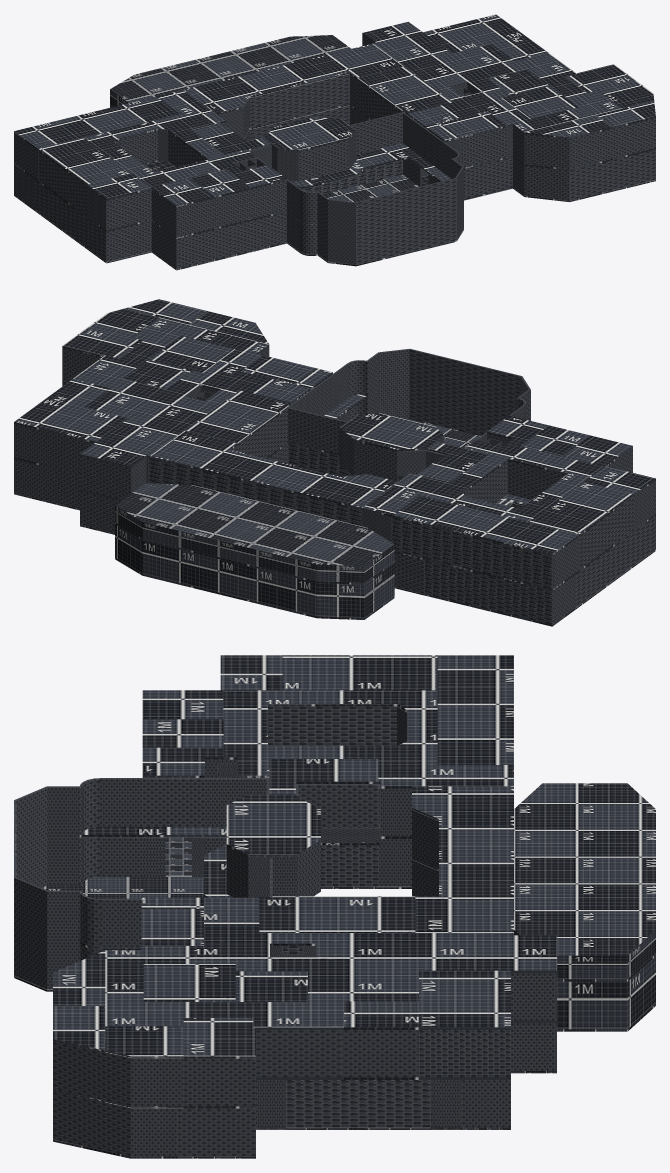
The model's file is block out.fbx.
The picture shows the model from 3 angles, top to bottom: view 1: azimuth 30°, elevation 25°; view 2: azimuth 150°, elevation 25°; view 3: azimuth 270°, elevation 25°; orthographic projection. The views are drawn at different scales.
Parts seen in each view (by area): view 1: sol_aile_droite_couloir, serre_1st_floor, sol_aile_gauche_couloir, sol_salon_central, sol_aile_gauche_dortoir, Cube__154_, Cube__34_, Cube__233_, Cube__41_, sol_aile_droite_dortoir, sol_aile_gauche_douches, sol_aile_gauche_bureau_directeur (+53 smaller); view 2: serre_1st_floor, sol_aile_droite_couloir, serre_rdc, sol_aile_gauche_couloir, sol_salon_central, Cube__122__1, sol_aile_gauche_dortoir, Cube, Cube__154_, Cube__236_, Cube__34_, sol_aile_droite_dortoir (+47 smaller); view 3: sol_aile_droite_couloir, serre_1st_floor, sol_aile_gauche_couloir, sol_salon_central, sol_aile_gauche_dortoir, Cube__47_, sol_aile_droite_dortoir, sol_aile_gauche_douches, sol_aile_droite_douches, sol_aile_gauche_bureau_directeur, Cube__237_, serre_rdc (+59 smaller).
Boxes of the visible parts, bbox=[...] form: sol_aile_droite_couloir: bbox=[362, 21, 622, 133]; serre_1st_floor: bbox=[110, 35, 351, 106]; sol_aile_gauche_couloir: bbox=[83, 90, 256, 186]; sol_salon_central: bbox=[184, 43, 403, 114]; sol_aile_gauche_dortoir: bbox=[14, 96, 179, 149]; Cube__154_: bbox=[356, 178, 456, 234]; Cube__34_: bbox=[356, 210, 456, 264]; Cube__233_: bbox=[249, 74, 349, 128]; Cube__41_: bbox=[569, 149, 655, 200]; sol_aile_droite_dortoir: bbox=[357, 66, 452, 114]; sol_aile_gauche_douches: bbox=[38, 138, 131, 185]; sol_aile_gauche_bureau_directeur: bbox=[263, 117, 356, 151]; serre_1st_floor: bbox=[115, 483, 394, 582]; sol_aile_droite_couloir: bbox=[73, 317, 310, 467]; serre_rdc: bbox=[115, 524, 394, 618]; sol_aile_gauche_couloir: bbox=[362, 440, 603, 521]; sol_salon_central: bbox=[150, 430, 397, 509]; Cube__122__1: bbox=[391, 517, 552, 589]; sol_aile_gauche_dortoir: bbox=[393, 495, 579, 555]; Cube: bbox=[424, 560, 553, 624]; Cube__154_: bbox=[409, 349, 521, 410]; Cube__236_: bbox=[148, 457, 362, 526]; Cube__34_: bbox=[409, 385, 515, 435]; sol_aile_droite_dortoir: bbox=[185, 390, 291, 444]; sol_aile_droite_couloir: bbox=[105, 897, 556, 1029]; serre_1st_floor: bbox=[514, 783, 655, 979]; sol_aile_gauche_couloir: bbox=[223, 690, 513, 788]; sol_salon_central: bbox=[412, 786, 513, 932]; sol_aile_gauche_dortoir: bbox=[437, 655, 513, 764]; Cube__47_: bbox=[286, 1080, 430, 1127]; sol_aile_droite_dortoir: bbox=[259, 896, 415, 932]; sol_aile_gauche_douches: bbox=[282, 655, 437, 690]; sol_aile_droite_douches: bbox=[419, 970, 510, 1029]; sol_aile_gauche_bureau_directeur: bbox=[226, 794, 320, 857]; Cube__237_: bbox=[268, 706, 396, 745]; serre_rdc: bbox=[557, 956, 655, 1029].
Bounding box in the file's own units: 7221 × 860 × 4884.
